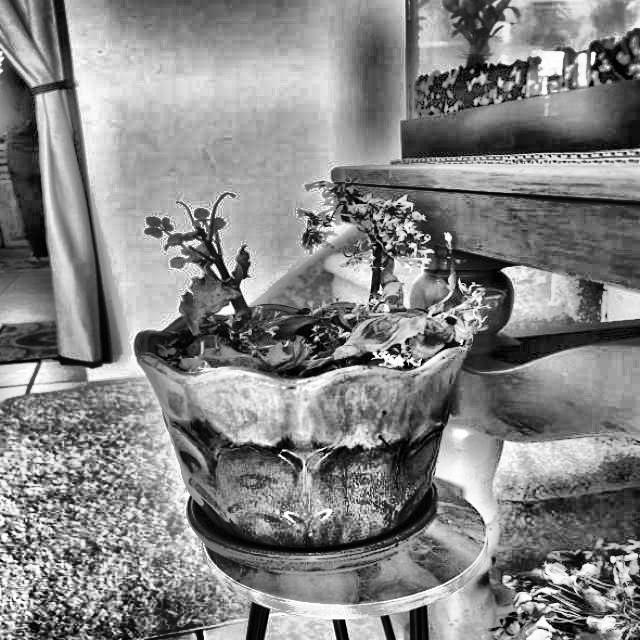plants: (104, 175, 541, 382), (416, 0, 552, 57)
